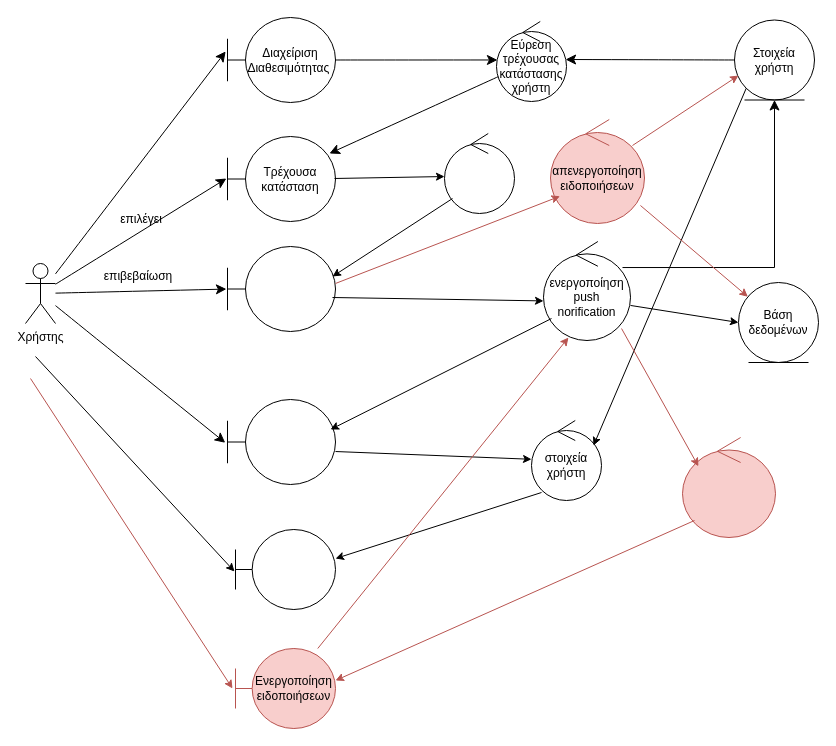
Image size: 836x746. Some labels were removed from this diagram. Each missing label, with the box of its shape:
Ενημέρωση διαθεσιμότητας: (226, 398, 336, 484)
επεξεργασια επιλογής: (444, 132, 514, 214)
Μύνημα ενημέρωσης: (226, 246, 336, 332)
Προφιλ χρήστη: (234, 528, 336, 610)
Πρόβλημα ενεργοποίησης ειδοποιήσεων: (682, 436, 776, 538)
